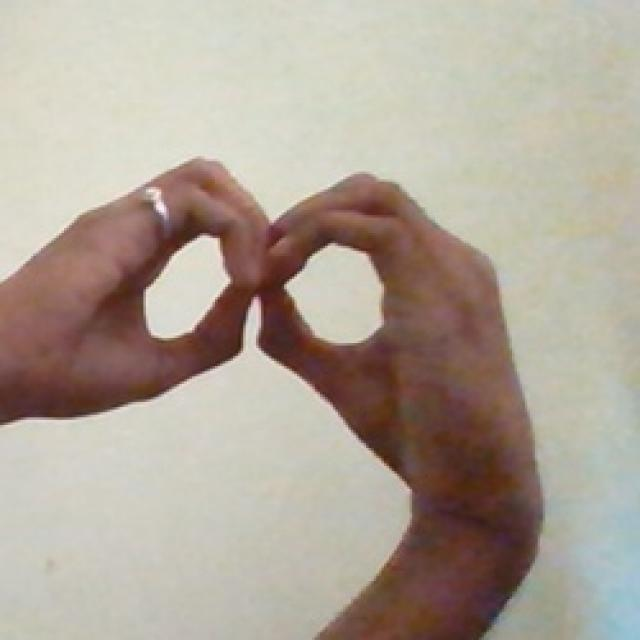Alphabet-B: (16, 147, 526, 496)
